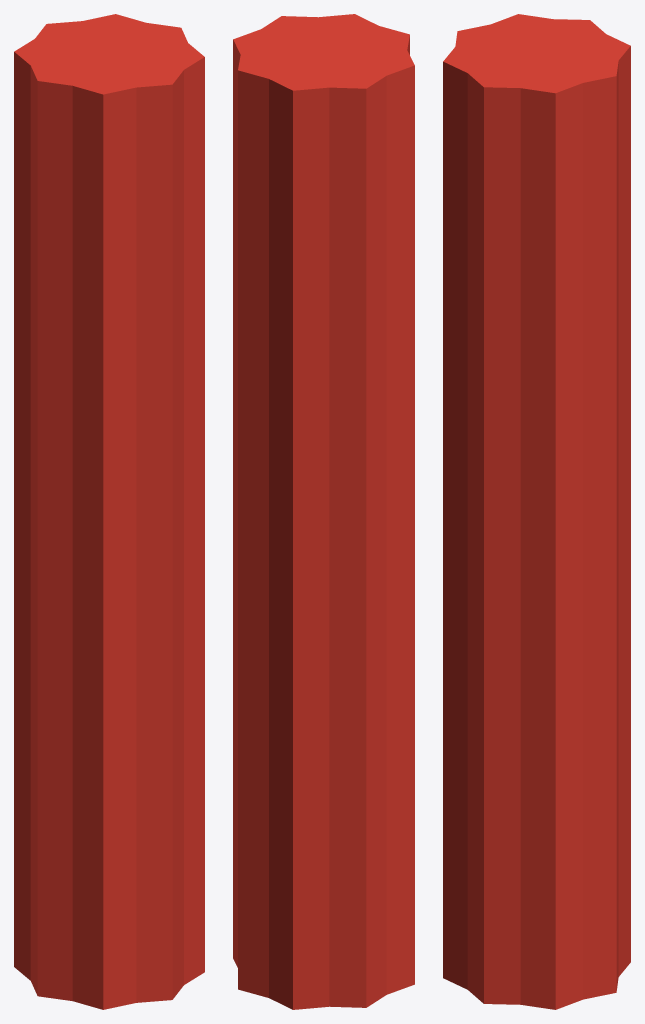
File: pawn_body-deco.glb
3 renders of one model, left to right at view 1: azimuth 30°, elevation 25°; view 2: azimuth 150°, elevation 25°; view 3: azimuth 270°, elevation 25°, orthographic.
Parts seen in each view (by area): view 1: pawn_body-deco; view 2: pawn_body-deco; view 3: pawn_body-deco.
Part boxes in pixels (x1,y1,x2,y2): pawn_body-deco: (14, 14, 204, 1009); pawn_body-deco: (233, 14, 414, 1009); pawn_body-deco: (443, 14, 630, 1009).
Size of the model in its own units: 0.1856 by 1 by 0.1856.
